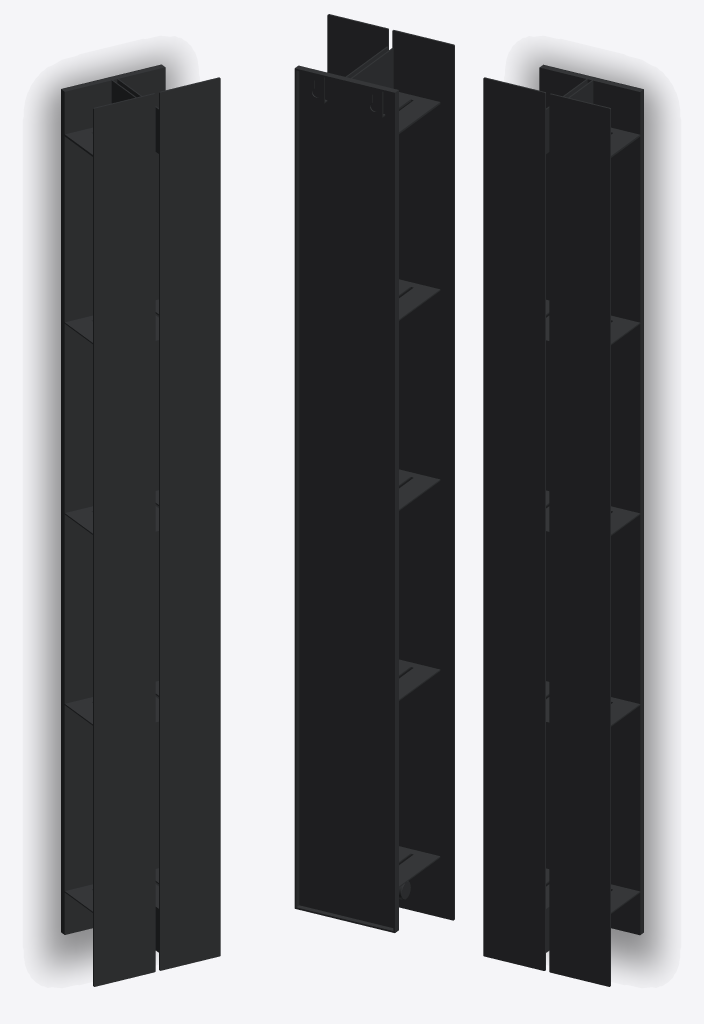
Rendered from skyline-prima.adfa30ede4.ar.glb.
The picture shows the model from 3 angles, left to right: view 1: azimuth 30°, elevation 25°; view 2: azimuth 150°, elevation 25°; view 3: azimuth 330°, elevation 25°; orthographic projection.
Parts seen in each view (by area): view 1: NAUO1, object 2; view 2: NAUO1; view 3: NAUO1, object 2.
Part boxes in pixels (x1,y1,x2,y2): NAUO1: (61,64,220,986); object 2: (39,54,182,969); NAUO1: (294,14,454,932); NAUO1: (483,64,643,986); object 2: (521,54,664,969).
Size of the model in its own units: 0.2312 by 1.08 by 0.096.
2 materials, 1 textured.
